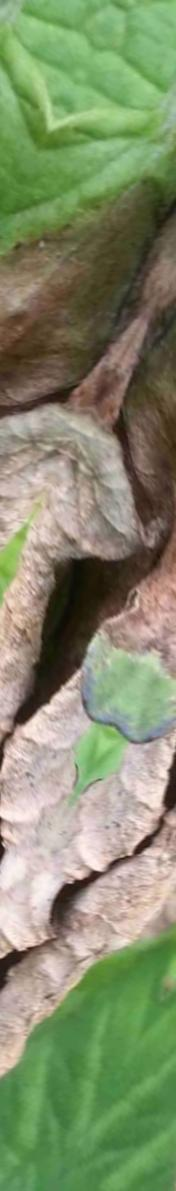Tomato leaf late blight: (0, 107, 176, 1157)
